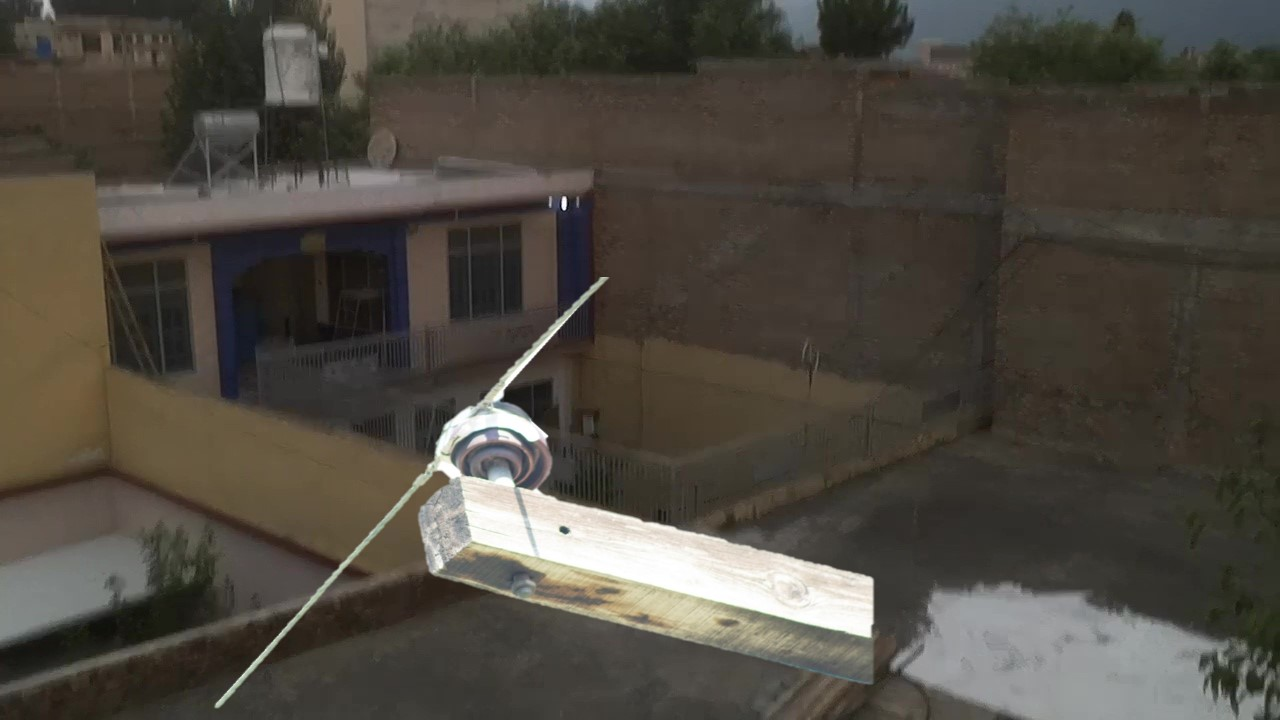defect_pin: (430, 395, 561, 492)
